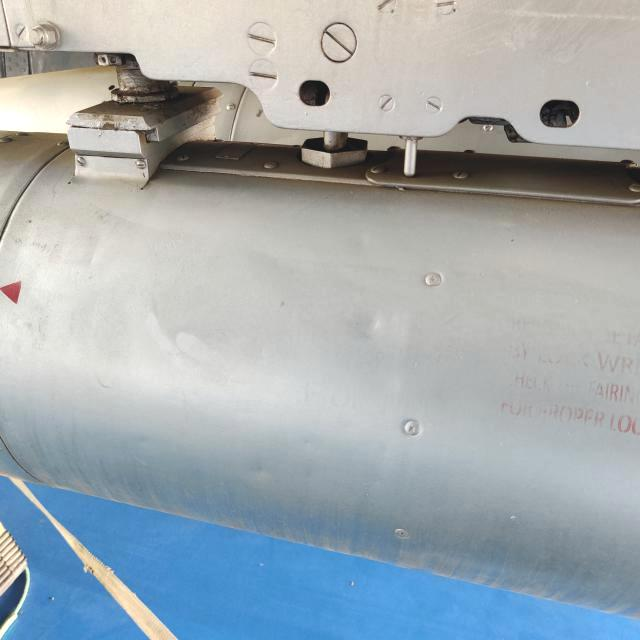dent: (341, 301, 399, 350)
